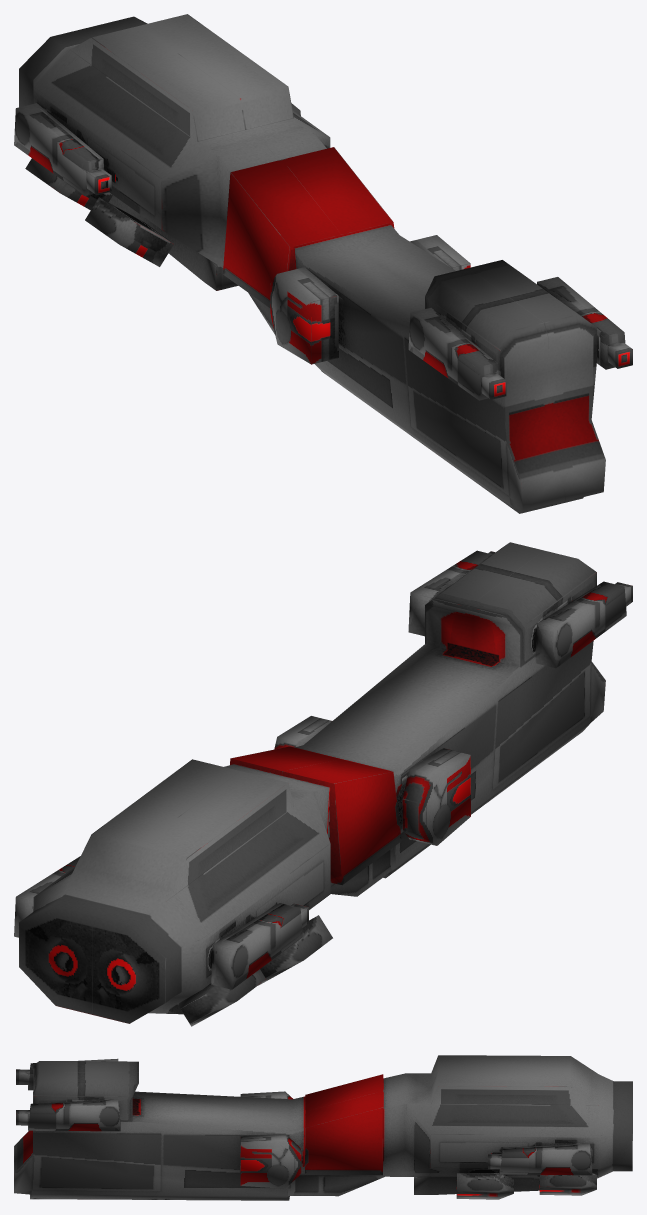
File: red_spaceship_02.fbx
3 views of the same model, one above another, from view 1: azimuth 30°, elevation 25°; view 2: azimuth 150°, elevation 25°; view 3: azimuth 270°, elevation 25° (orthographic). The views are drawn at different scales.
Visible parts, largest first — view 1: RSFlagshipMod; view 2: RSFlagshipMod; view 3: RSFlagshipMod.
Part boxes in pixels (<box>): RSFlagshipMod: <box>14,14,632,513</box>; RSFlagshipMod: <box>14,542,632,1026</box>; RSFlagshipMod: <box>14,1055,632,1200</box>.
Bounding box in the file's own units: 1146 × 4269 × 913.
